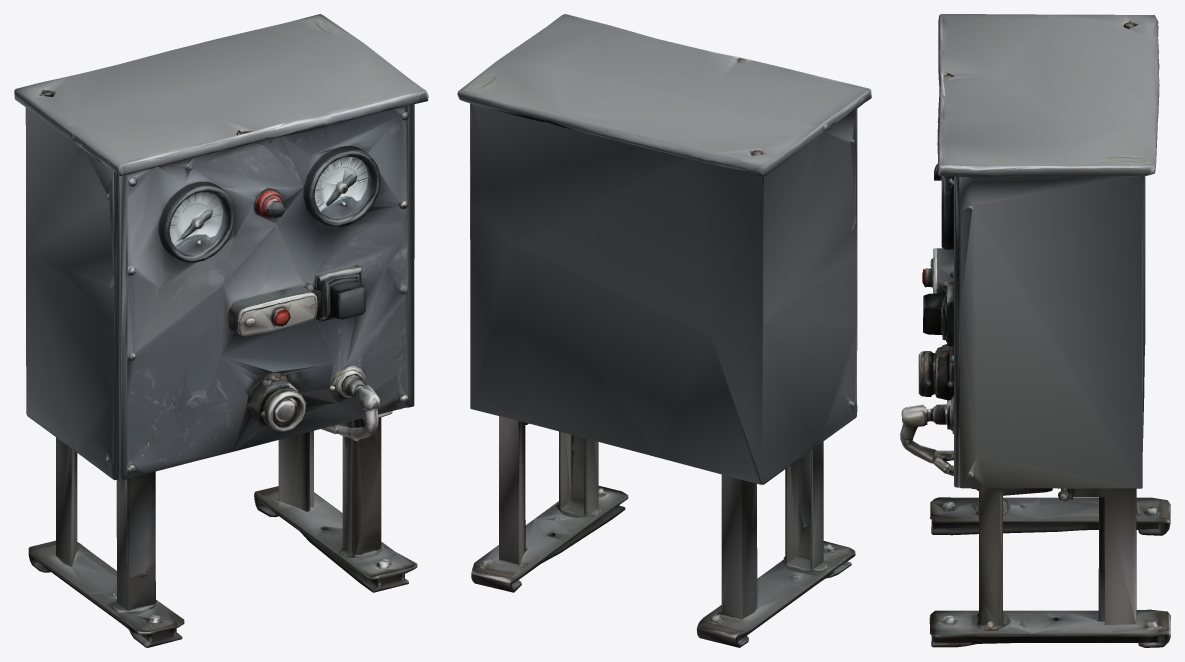
Rendered from generator_starter_panel_LOD1.fbx.
The picture shows the model from 3 angles, left to right: view 1: azimuth 30°, elevation 25°; view 2: azimuth 150°, elevation 25°; view 3: azimuth 270°, elevation 25°; orthographic projection.
Parts seen in each view (by area): view 1: generator_starter_panel.001; view 2: generator_starter_panel.001; view 3: generator_starter_panel.001.
Boxes of the visible parts, box(x1,y1,x2,y2) form: generator_starter_panel.001: box(14, 14, 428, 647); generator_starter_panel.001: box(457, 14, 871, 647); generator_starter_panel.001: box(900, 14, 1170, 647).
Size of the model in its own units: 0.9275 by 1.38 by 0.6859.
Materials: 1 (1 with a texture image).
